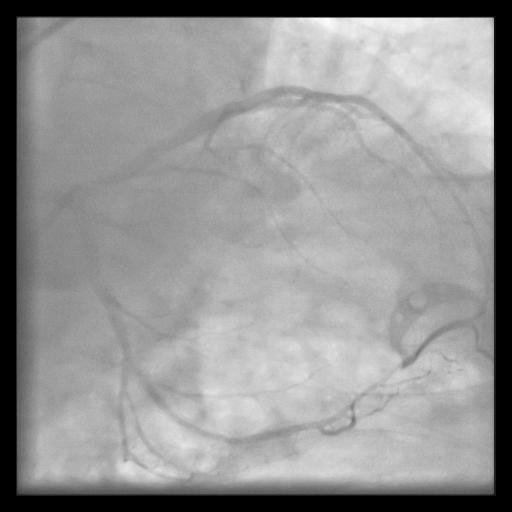Stenosis: (124, 358, 157, 399)
